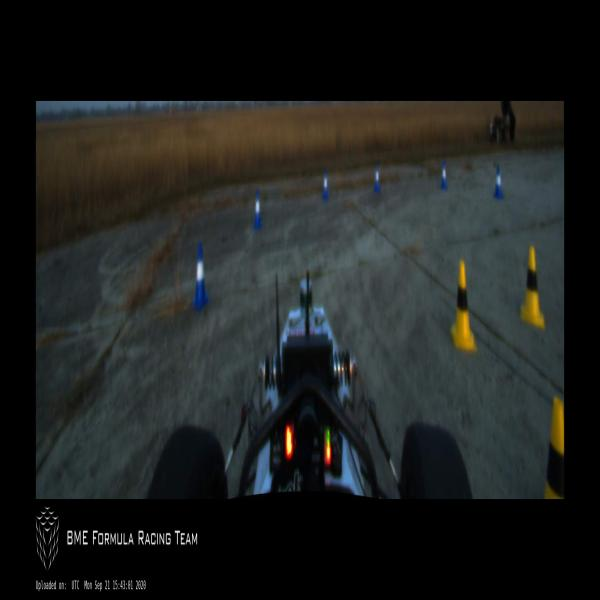blue_cone: (190, 244, 210, 310), (493, 166, 504, 197), (254, 190, 262, 231), (440, 160, 448, 189), (374, 163, 381, 195), (322, 170, 329, 201)
yellow_cone: (544, 394, 564, 498), (451, 261, 474, 351), (521, 246, 544, 325)
